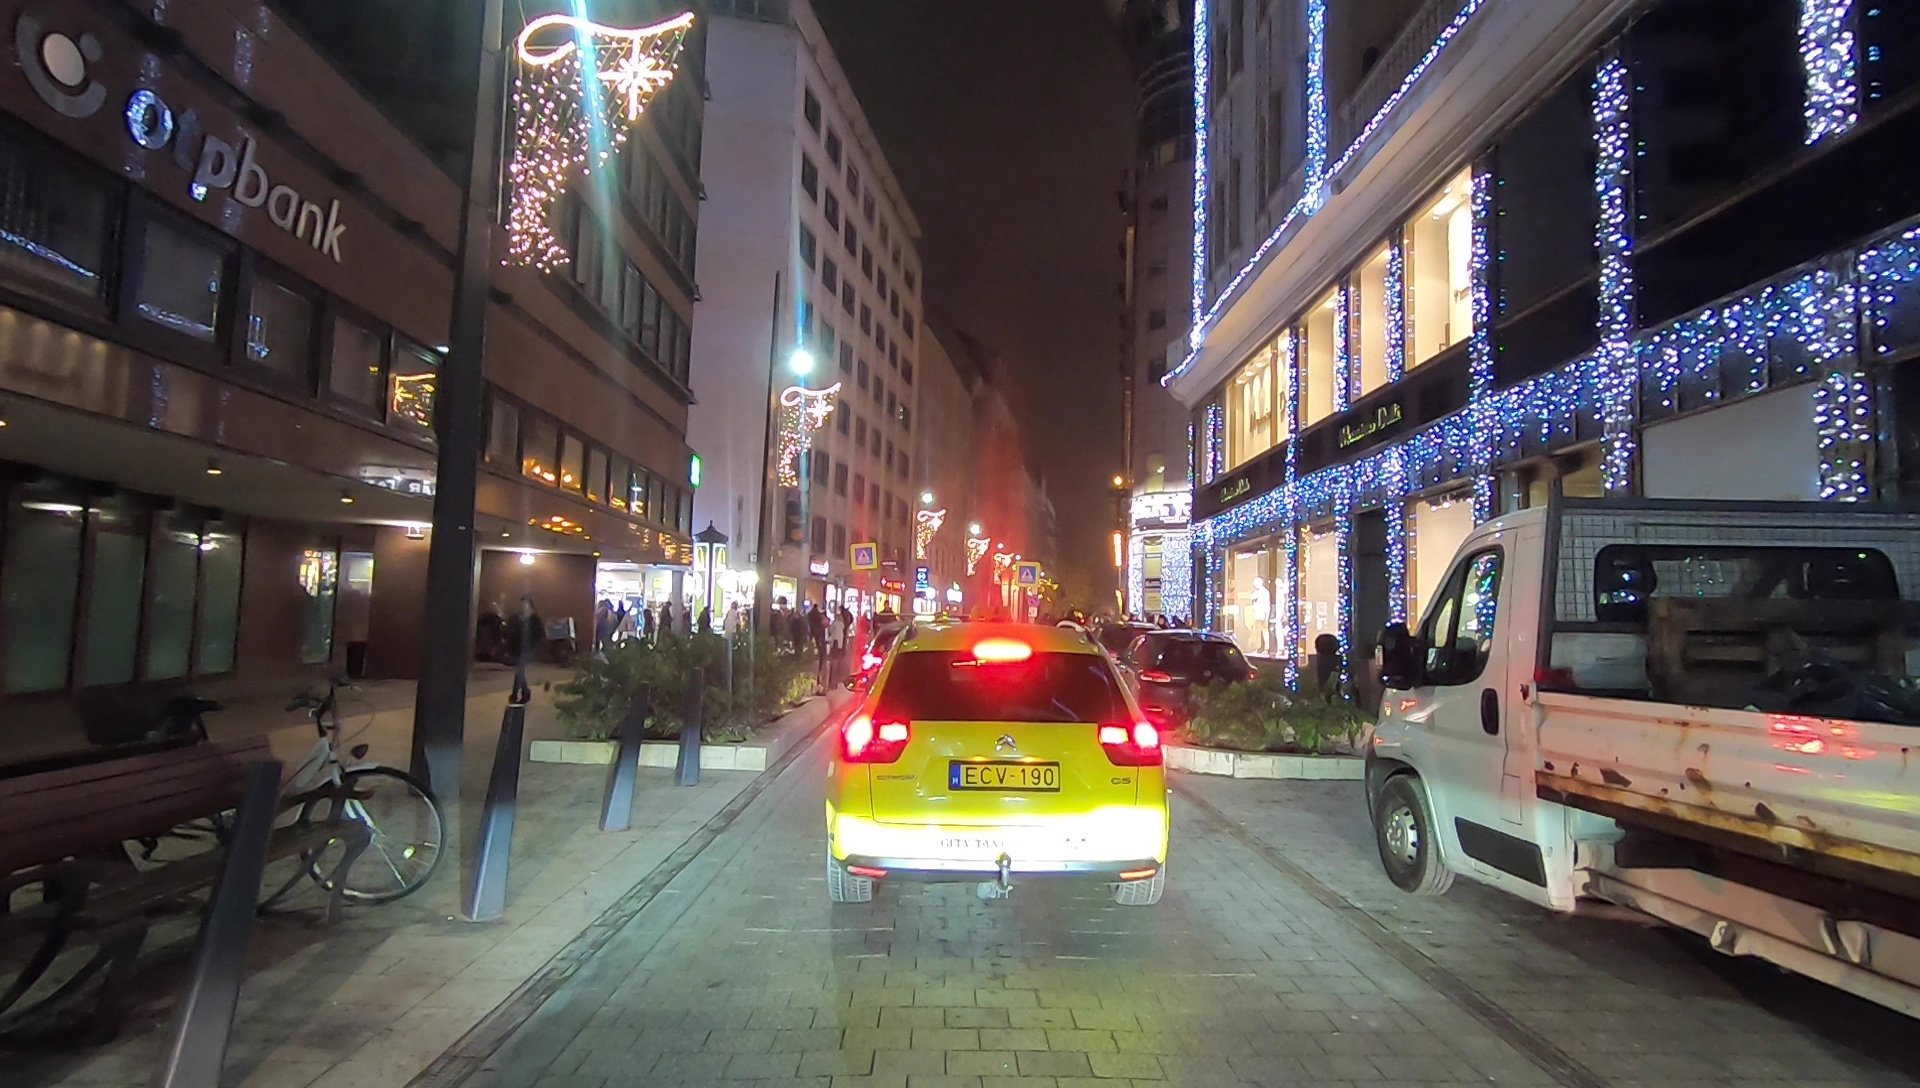person: (504, 595, 541, 710)
